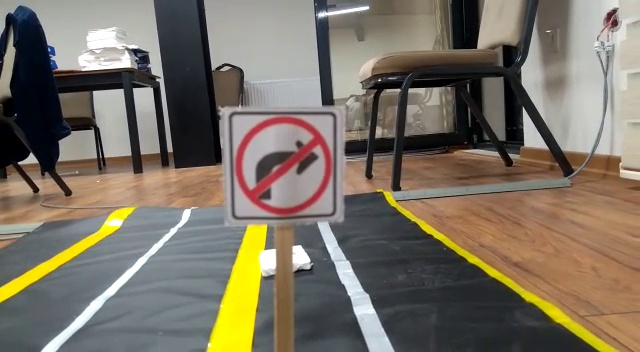saga_donulmez: (225, 108, 341, 220)
